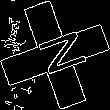N_W: (24, 28, 86, 82)
